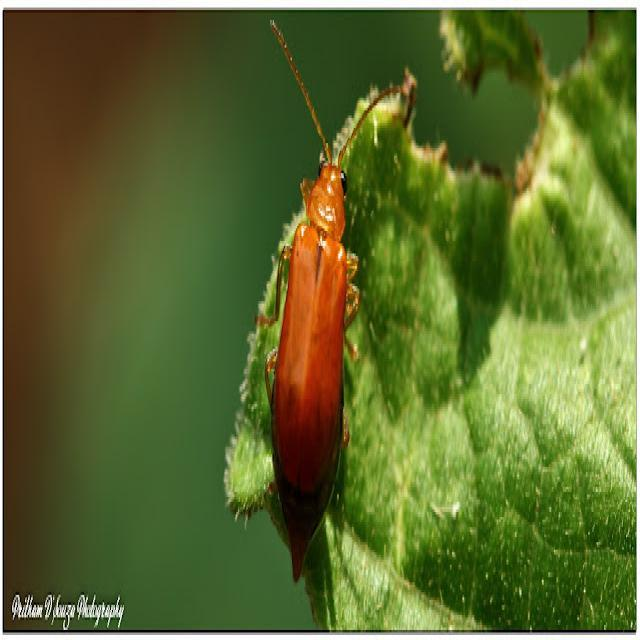Pumpkin Beetle: (252, 10, 406, 595)
